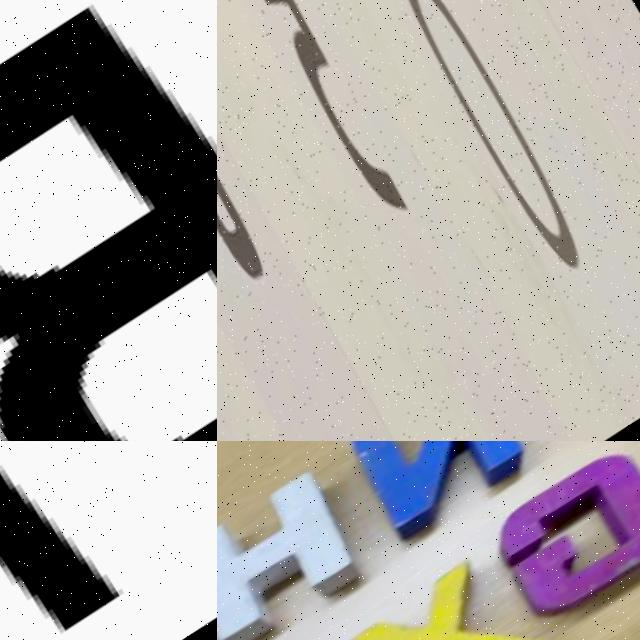0: (354, 0, 621, 299), (217, 220, 307, 441)
1: (0, 441, 195, 640)
2: (608, 22, 640, 314)
5: (220, 0, 439, 243)
8: (217, 12, 292, 299)
B: (0, 5, 217, 441)
G: (466, 441, 640, 640)
H: (217, 463, 381, 640)
N: (334, 441, 541, 552)
X: (314, 528, 569, 640)
